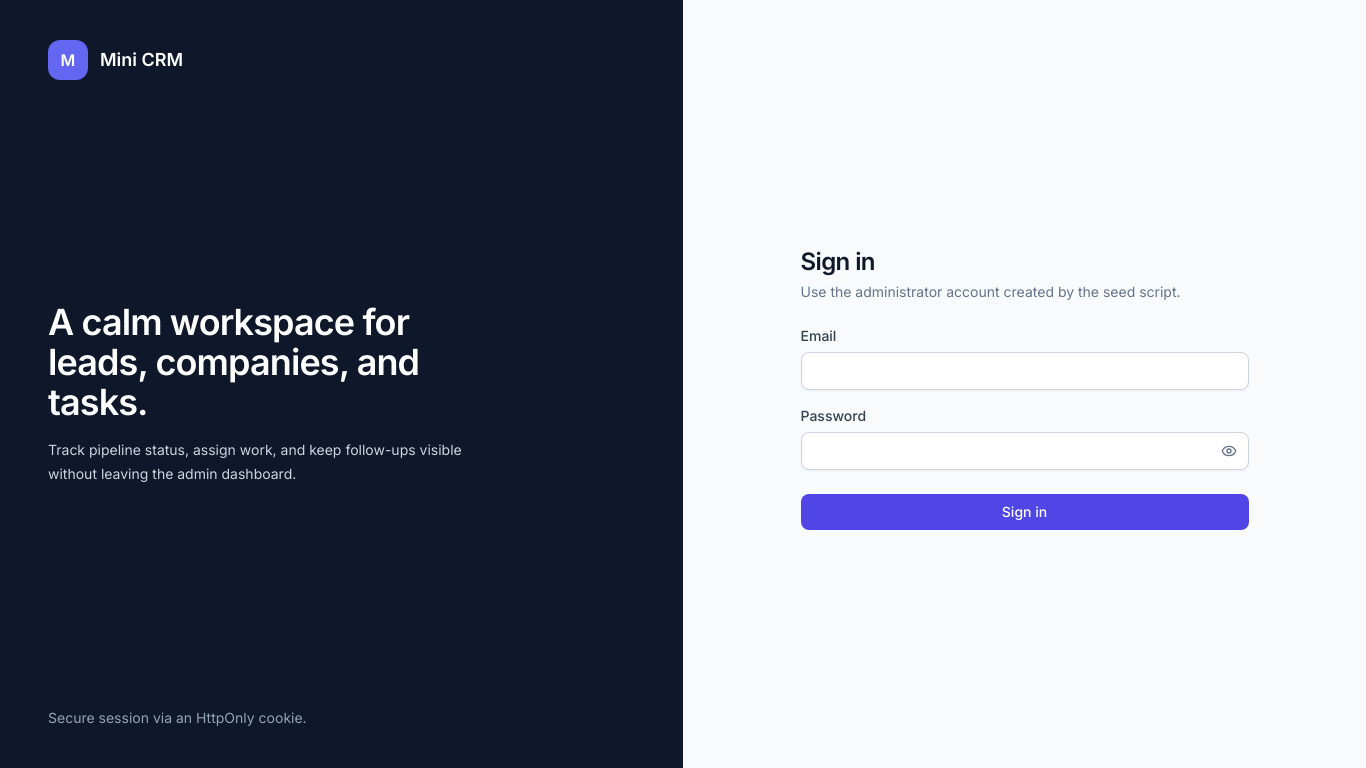
login page › shows a validation error for an invalid email
The width and height of the screenshot is (1366, 768).
In the field labelled "Email": (1024, 371) [800, 352, 1248, 390], type "not-an-email"
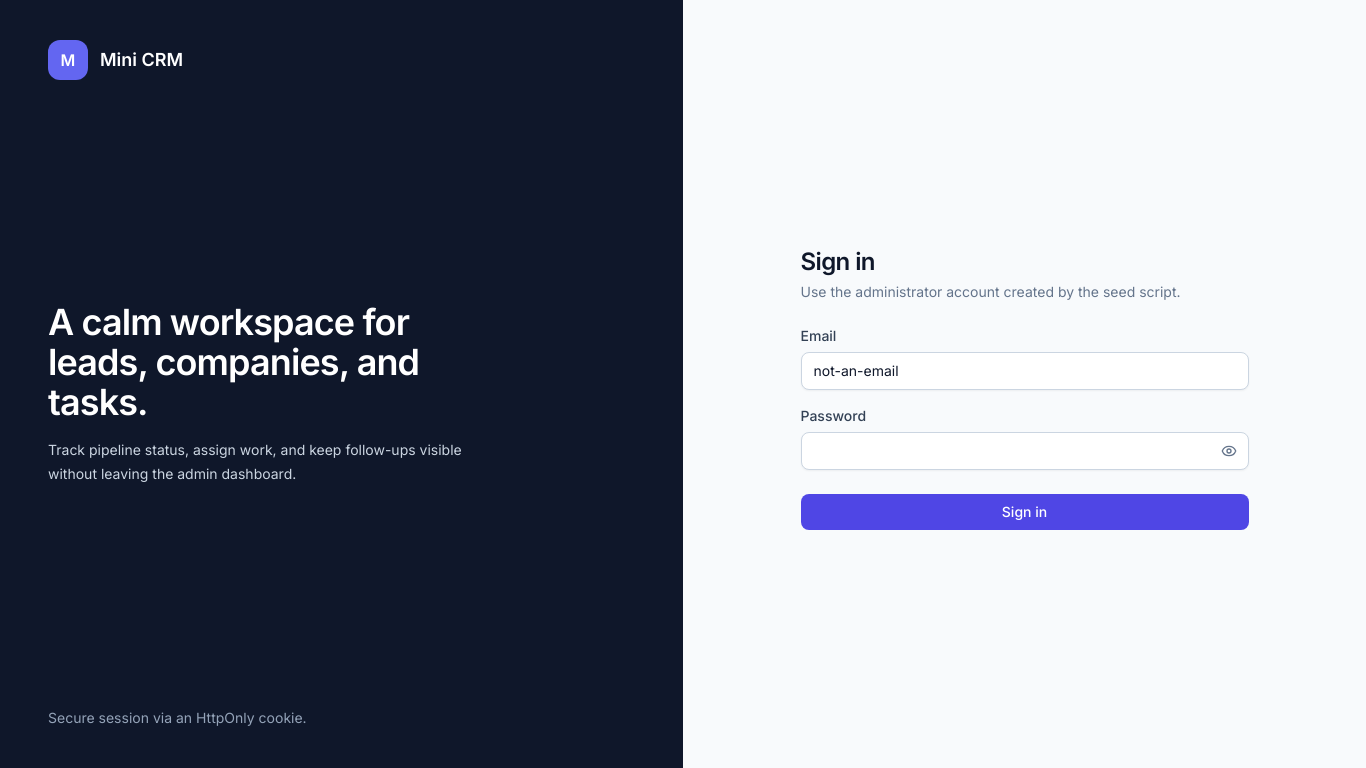
In the password field labelled "Password": (1024, 451) [800, 432, 1248, 470], type "secret"
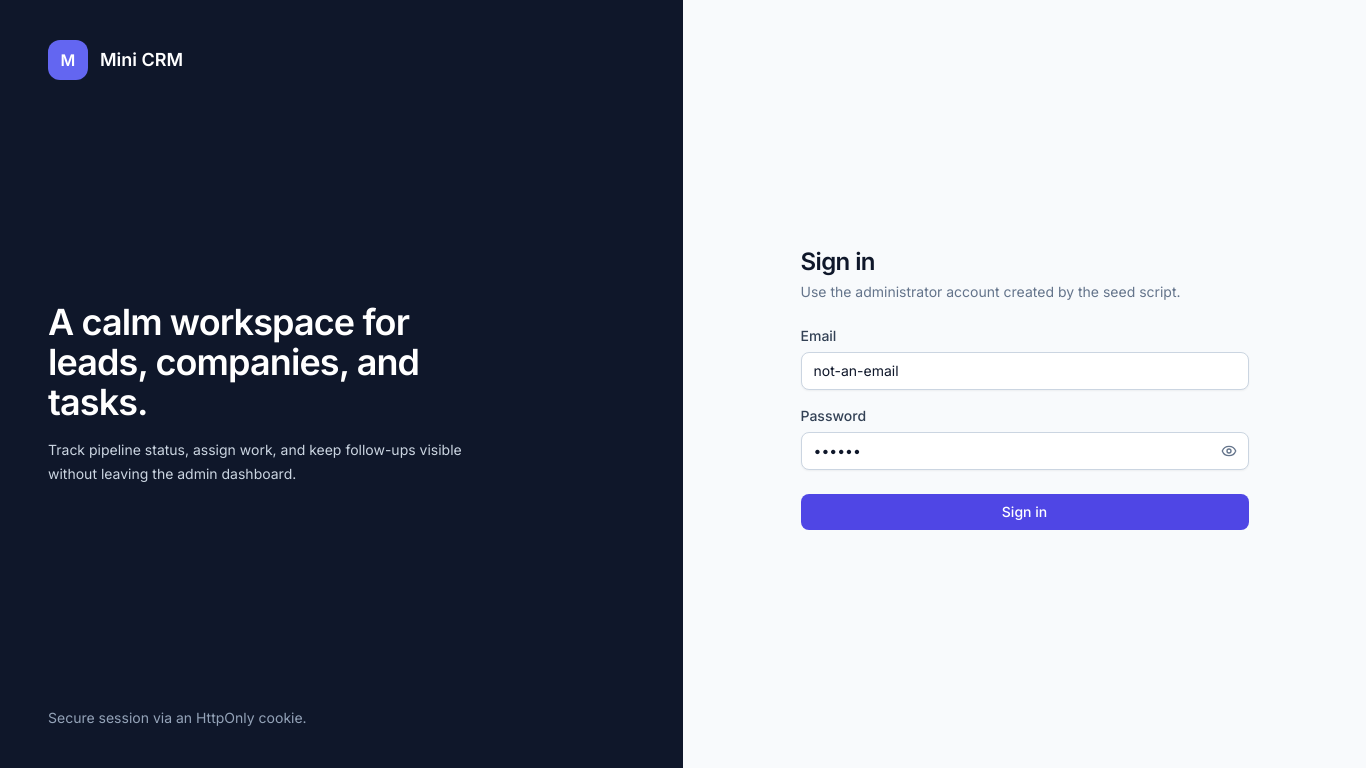
Click the button "Sign in": click(1024, 512) [800, 494, 1248, 530]
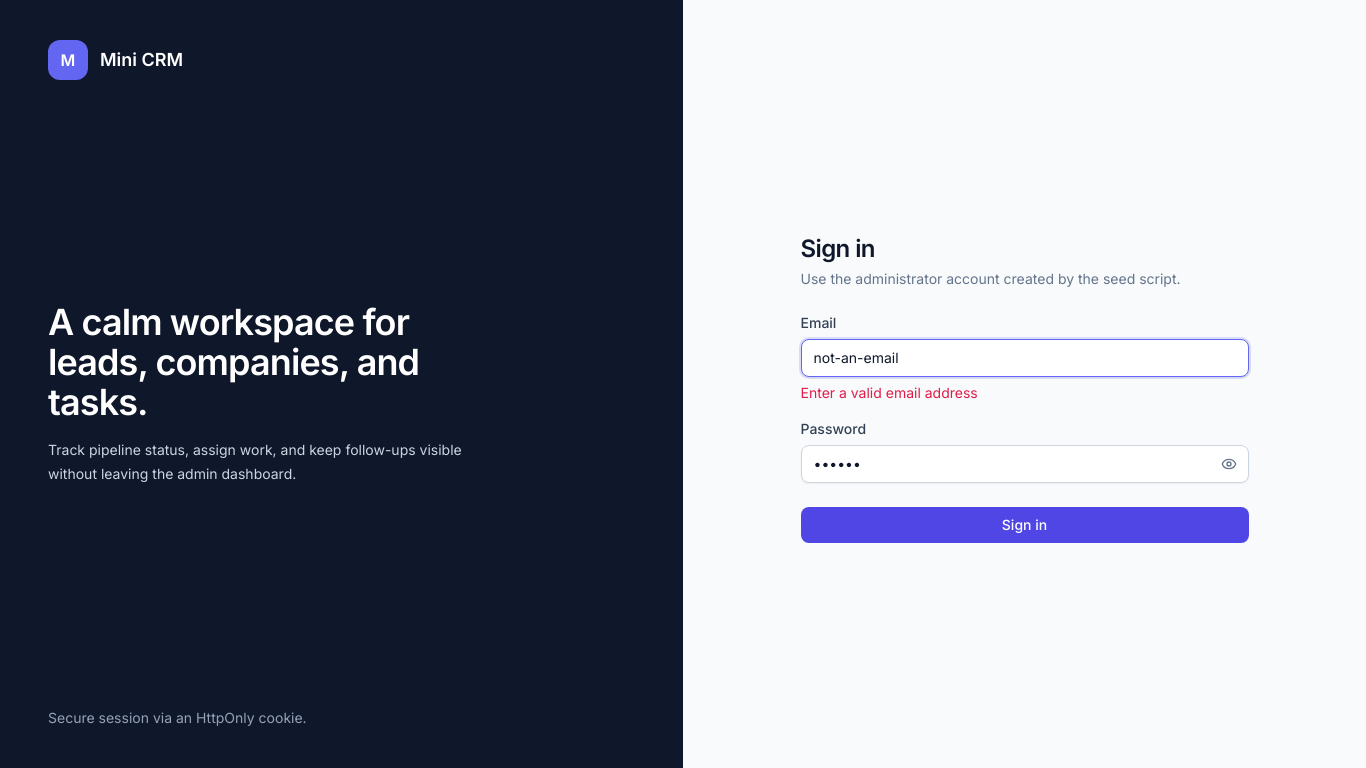
Result: the text "Enter a valid email address" is shown at [800, 384, 978, 401]
